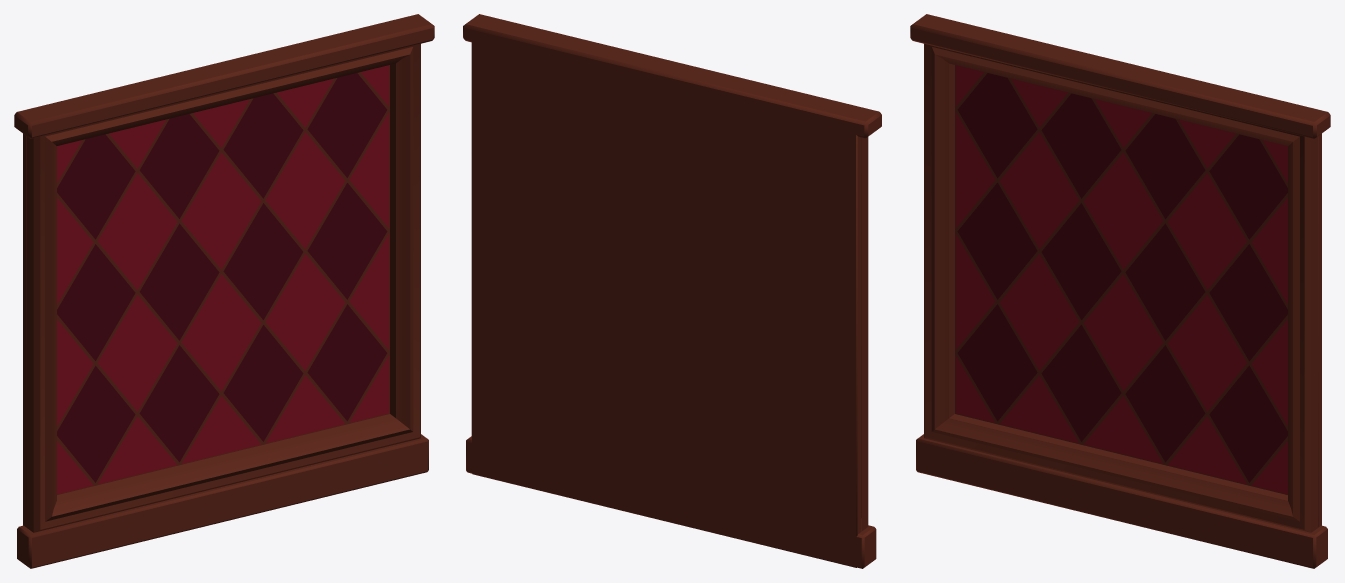
The model's file is WallPanel.glb.
The picture shows the model from 3 angles, left to right: view 1: azimuth 30°, elevation 25°; view 2: azimuth 150°, elevation 25°; view 3: azimuth 330°, elevation 25°; orthographic projection.
Parts seen in each view (by area): view 1: WallPanel_Body, WallPanel_DiamondsDark, WallPanel_Diamonds; view 2: WallPanel_Body; view 3: WallPanel_Body, WallPanel_DiamondsDark, WallPanel_Diamonds.
Boxes of the visible parts, box(x1,y1,x2,y2) form: WallPanel_Body: box(14, 14, 434, 568); WallPanel_DiamondsDark: box(57, 73, 387, 482); WallPanel_Diamonds: box(57, 65, 389, 494); WallPanel_Body: box(463, 14, 881, 568); WallPanel_Body: box(910, 14, 1330, 568); WallPanel_DiamondsDark: box(957, 73, 1287, 482); WallPanel_Diamonds: box(955, 65, 1287, 494).
Bounding box in the file's own units: 1.26 × 1.33 × 0.09.
